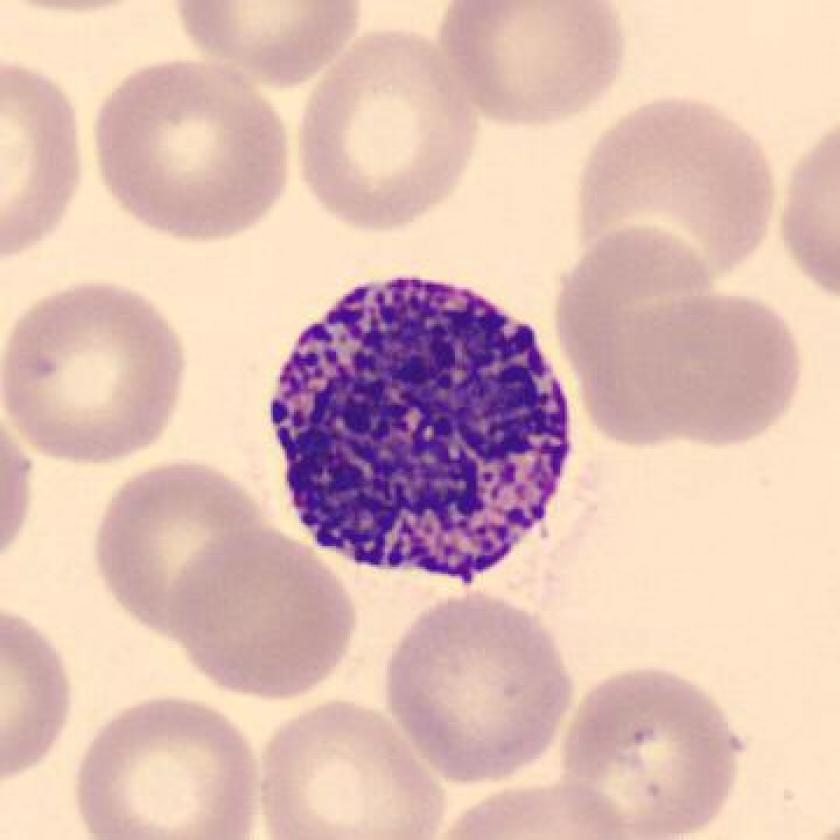basophil: (267, 274, 577, 584)
